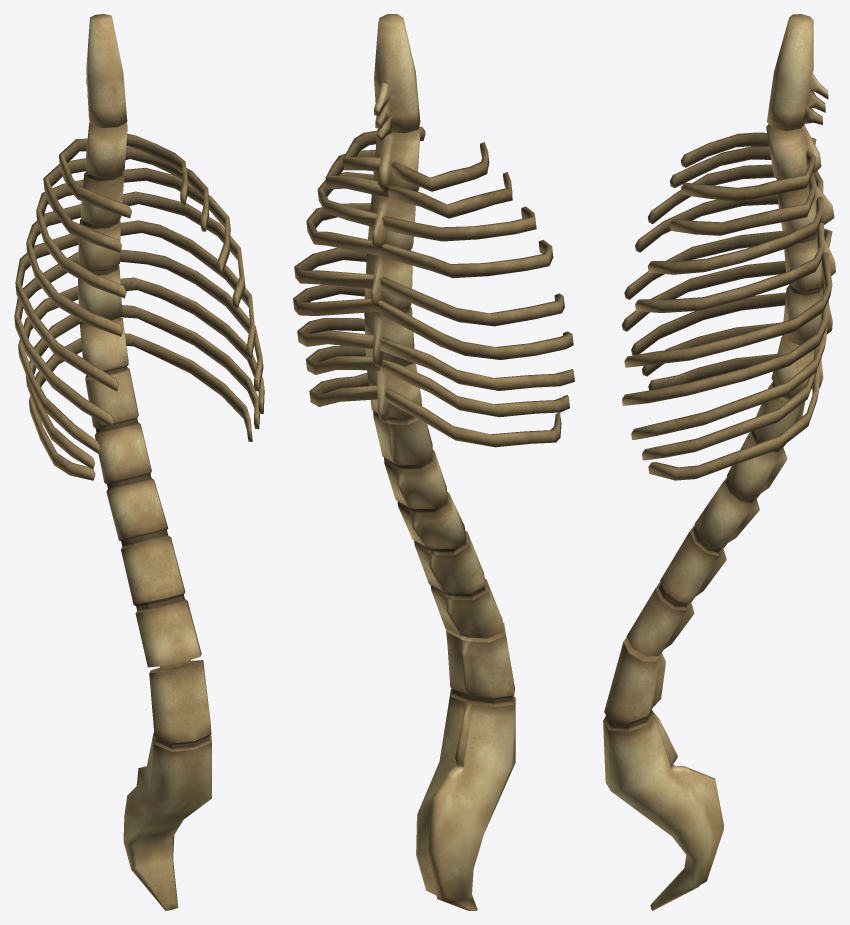
Rendered from bones.FBX.
The picture shows the model from 3 angles, left to right: view 1: azimuth 30°, elevation 25°; view 2: azimuth 150°, elevation 25°; view 3: azimuth 270°, elevation 25°; orthographic projection. The views are drawn at different scales.
Parts seen in each view (by area): view 1: ribs, Spine_part_2, Spine_part_3, spine; view 2: ribs, Spine_part_3, Spine_part_2, spine; view 3: ribs, Spine_part_3, Spine_part_2, spine.
Boxes of the visible parts, x1,y1,x2,y2 form: ribs: (14, 134, 264, 480); Spine_part_2: (79, 317, 201, 669); Spine_part_3: (123, 660, 211, 910); spine: (77, 14, 127, 321); ribs: (293, 126, 574, 447); Spine_part_3: (416, 623, 515, 910); Spine_part_2: (367, 363, 503, 638); spine: (364, 14, 420, 367); ribs: (622, 132, 832, 480); Spine_part_3: (603, 637, 723, 910); Spine_part_2: (626, 335, 823, 656); spine: (766, 14, 835, 345).
Size of the model in its own units: 47.19 by 183 by 43.27.
